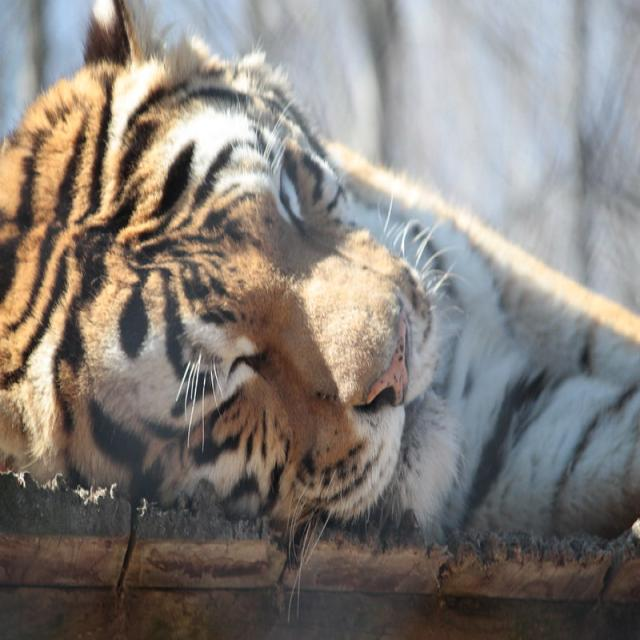Tiger: (0, 0, 639, 555)
